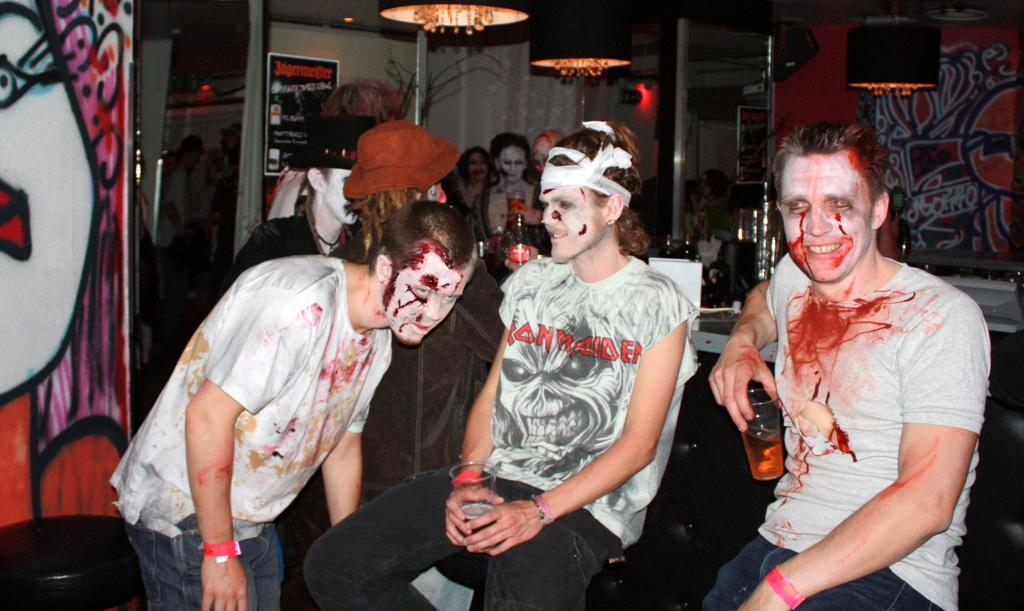Hat: (338, 118, 460, 193)
